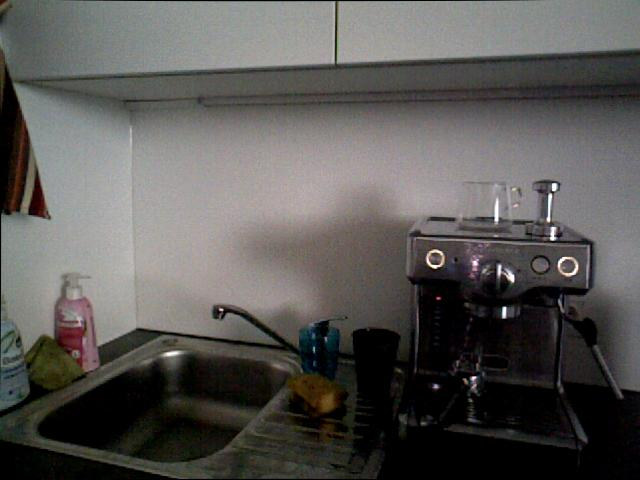bench: (46, 268, 103, 373), (0, 289, 34, 416)
couch: (1, 334, 302, 475)
handbag: (455, 178, 525, 236), (351, 326, 400, 401), (294, 320, 344, 387)
